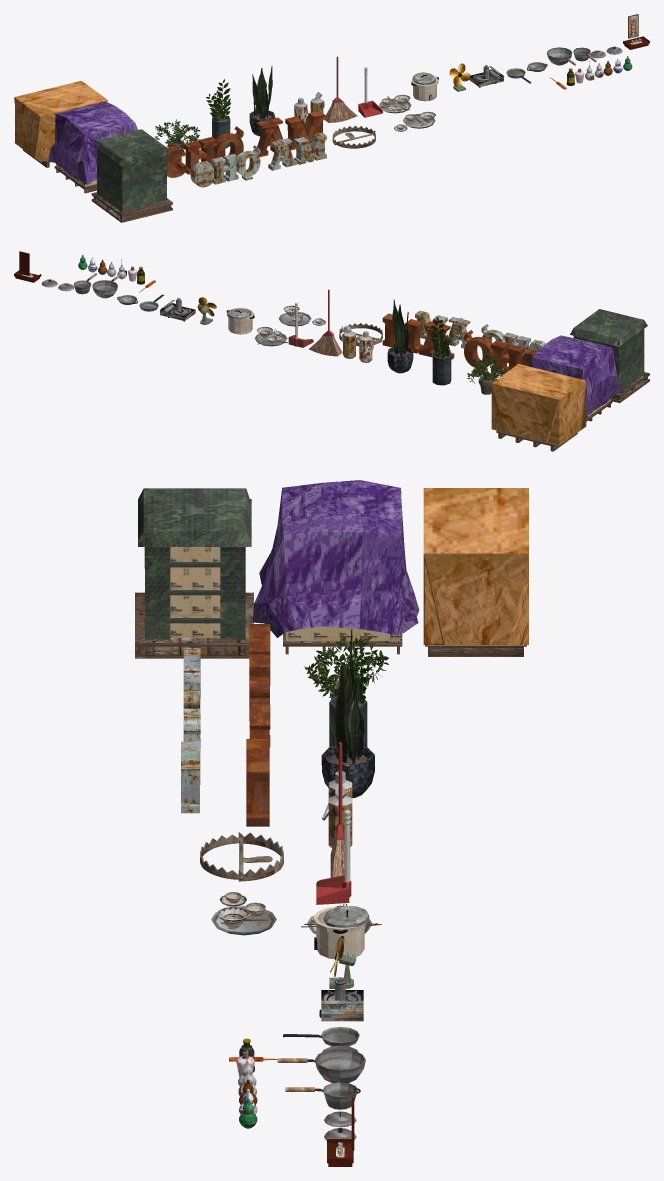
The model's file is Cho.fbx.
The picture shows the model from 3 angles, top to bottom: view 1: azimuth 30°, elevation 25°; view 2: azimuth 150°, elevation 25°; view 3: azimuth 270°, elevation 25°; orthographic projection. The views are drawn at different scales.
Parts seen in each view (by area): view 1: hanghoa1, hanghoa, hanghoa2, ChoAm_Fix, Cube.006, ThucVat3, ThucVat1, NoiCom, Choi, ThucVat2, BayGau, MamChenBat (+6 smaller); view 2: hanghoa2, hanghoa, hanghoa1, ChoAm_Fix, Cube.006, ThucVat3, NoiCom, ThucVat1, Choi, ChauCay2, ChauCay1, ThucVat2 (+8 smaller); view 3: hanghoa, hanghoa1, hanghoa2, ChoAm_Fix, Cube.006, NoiCom, ThucVat3, ThucVat1, BayGau, ChauCay1, ChaoGang, HotRac (+3 smaller).
Part boxes in pixels (bbox=[...]): hanghoa1: bbox=[91, 129, 172, 222]; hanghoa: bbox=[48, 101, 137, 193]; hanghoa2: bbox=[14, 80, 107, 167]; ChoAm_Fix: bbox=[167, 110, 325, 177]; Cube.006: bbox=[190, 132, 326, 187]; ThucVat3: bbox=[252, 66, 272, 119]; ThucVat1: bbox=[154, 119, 200, 150]; NoiCom: bbox=[411, 72, 438, 101]; Choi: bbox=[324, 56, 357, 122]; ThucVat2: bbox=[206, 79, 230, 120]; BayGau: bbox=[332, 125, 375, 148]; MamChenBat: bbox=[379, 94, 411, 113]; hanghoa2: bbox=[491, 364, 586, 451]; hanghoa: bbox=[529, 335, 620, 421]; hanghoa1: bbox=[570, 309, 649, 402]; ChoAm_Fix: bbox=[382, 313, 537, 374]; Cube.006: bbox=[415, 310, 546, 356]; ThucVat3: bbox=[392, 299, 409, 355]; NoiCom: bbox=[226, 307, 254, 334]; ThucVat1: bbox=[467, 353, 508, 383]; Choi: bbox=[309, 289, 342, 356]; ChauCay2: bbox=[432, 352, 451, 385]; ChauCay1: bbox=[387, 346, 413, 373]; ThucVat2: bbox=[431, 316, 449, 358]; hanghoa: bbox=[253, 480, 419, 654]; hanghoa1: bbox=[135, 488, 253, 658]; hanghoa2: bbox=[423, 488, 528, 656]; ChoAm_Fix: bbox=[246, 624, 270, 826]; Cube.006: bbox=[181, 648, 200, 813]; NoiCom: bbox=[313, 905, 369, 959]; ThucVat3: bbox=[330, 661, 364, 763]; ThucVat1: bbox=[304, 635, 388, 700]; BayGau: bbox=[200, 832, 283, 881]; ChauCay1: bbox=[321, 746, 374, 798]; ChaoGang: bbox=[277, 1049, 365, 1083]; HotRac: bbox=[316, 810, 351, 904].
Bounding box in the file's own units: 2135 × 246 × 622.
Materials: 23 (23 with a texture image).
